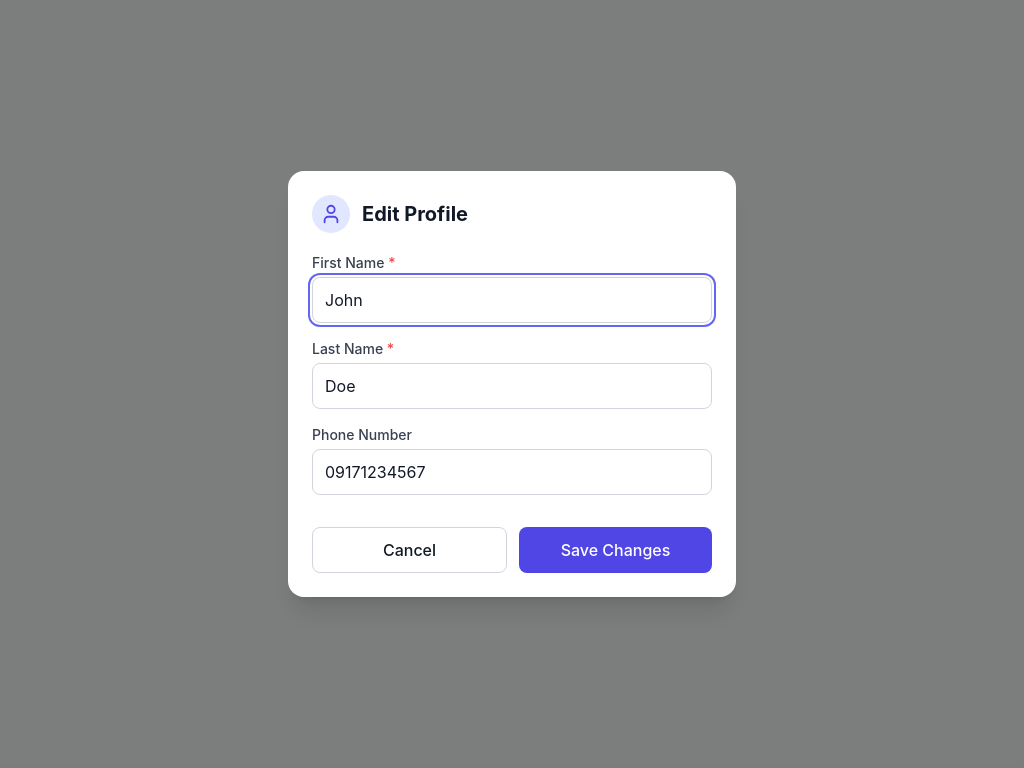
EditProfileModal › Validation › shows error when last name is empty
Clear the field showing "Doe" below "Last Name" at (512, 386), box [312,363,712,409]
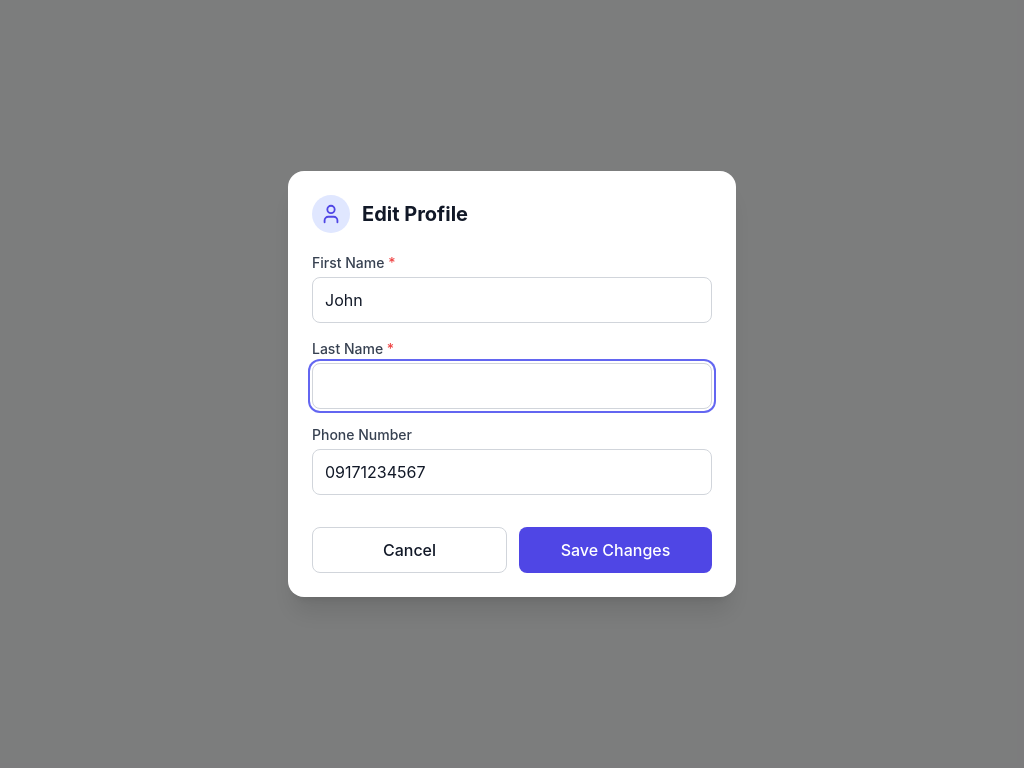
Click the button "Save Changes" at (616, 550), box [519,527,712,573]
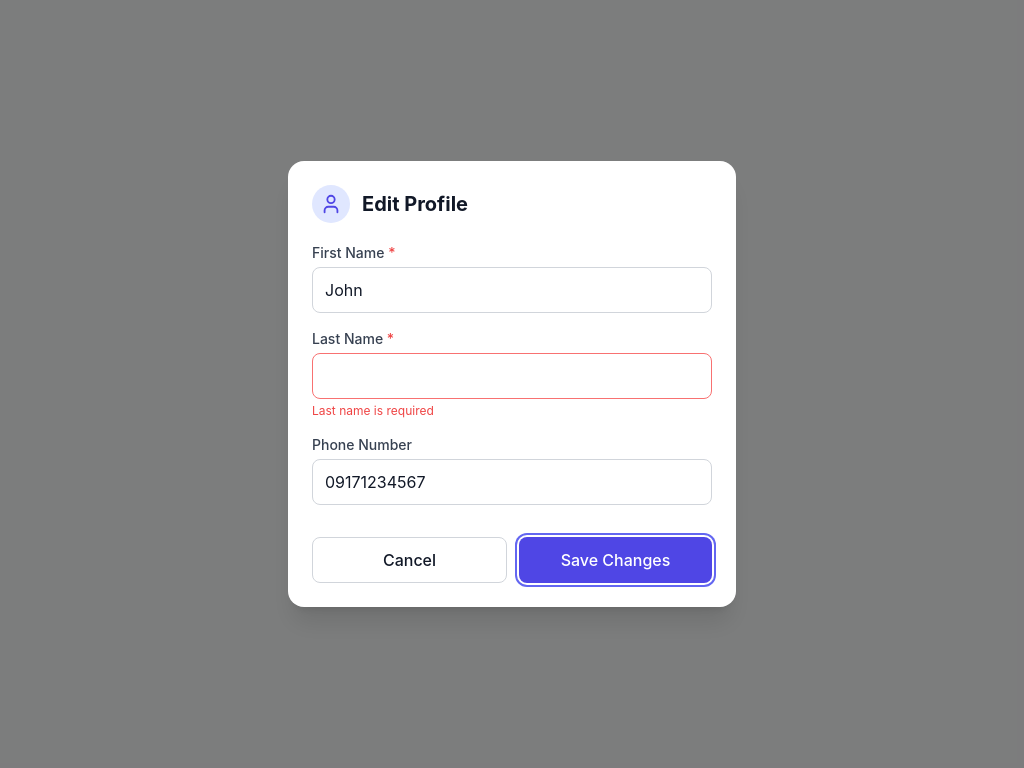
Expected: the text "Last name is required" is shown, [312,403,434,418]
